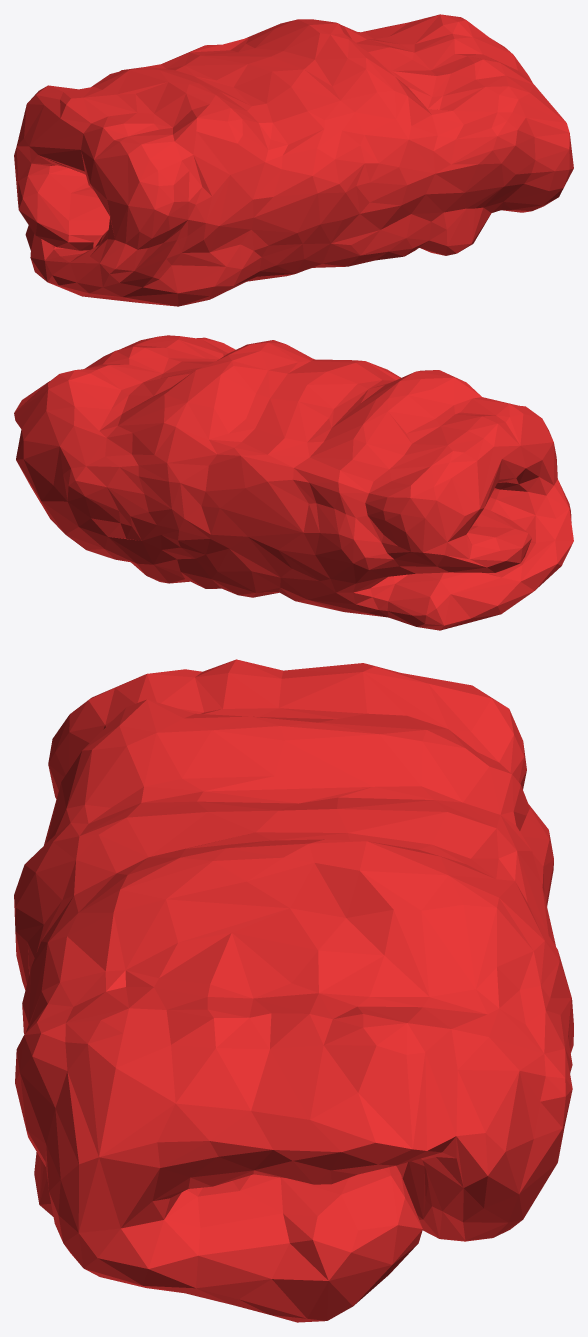
Rendered from Blanket.fbx.
3 views of the same model, one above another, from view 1: azimuth 30°, elevation 25°; view 2: azimuth 150°, elevation 25°; view 3: azimuth 270°, elevation 25° (orthographic). The views are drawn at different scales.
Visible parts, largest first — view 1: Blankie; view 2: Blankie; view 3: Blankie.
Part boxes in pixels (box(x1,y1,x2,y2)): Blankie: box(14, 14, 573, 306); Blankie: box(14, 335, 573, 630); Blankie: box(14, 659, 573, 1322).
Size of the model in its own units: 983 by 363 by 537.
